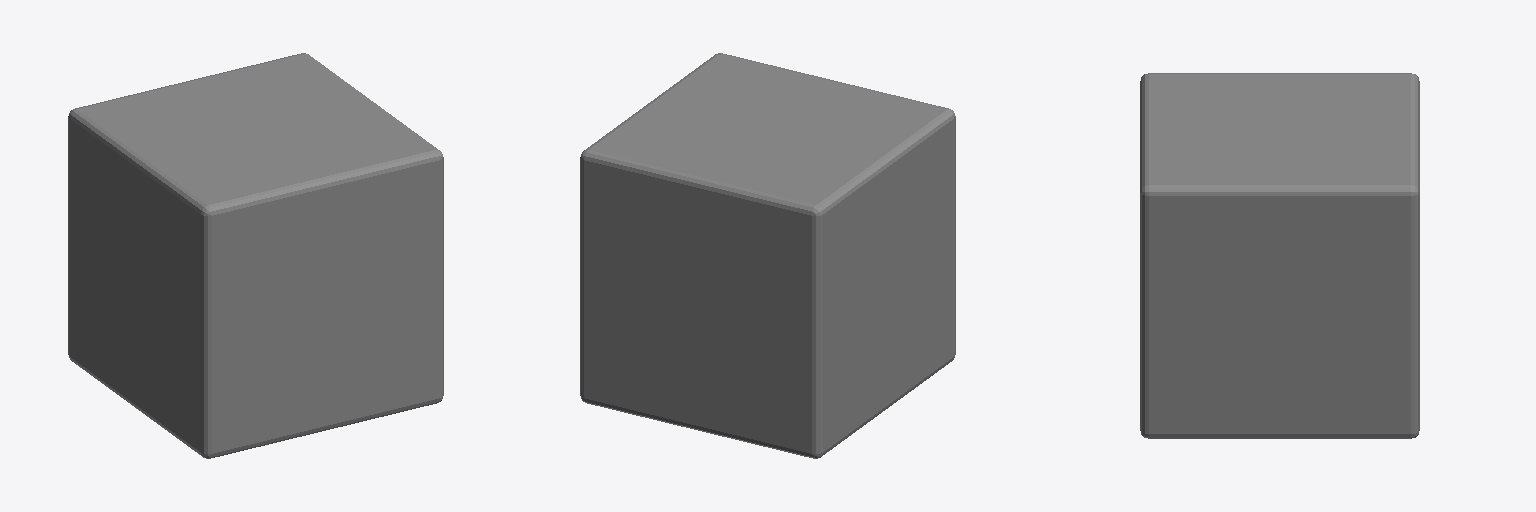
The model's file is rocky_box.obj.
3 views of the same model, side by side, from view 1: azimuth 30°, elevation 25°; view 2: azimuth 150°, elevation 25°; view 3: azimuth 270°, elevation 25° (orthographic).
Visible parts, largest first — view 1: ChamferBox002; view 2: ChamferBox002; view 3: ChamferBox002.
Boxes of the visible parts, box(x1,y1,x2,y2) form: ChamferBox002: box(68, 53, 443, 458); ChamferBox002: box(580, 53, 955, 458); ChamferBox002: box(1140, 73, 1419, 438).
Size of the model in its own units: 170 by 170 by 170.